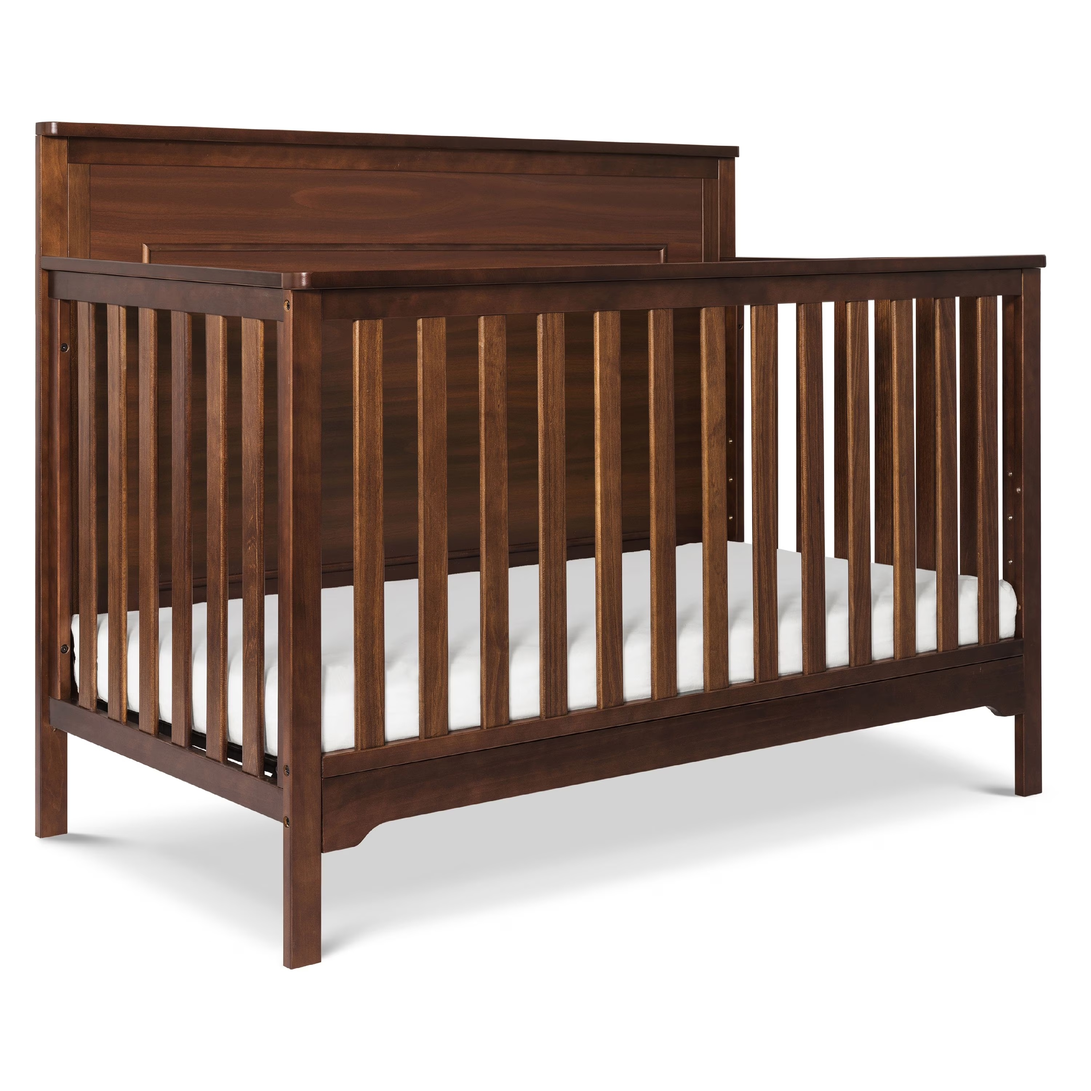crib: (36, 124, 1043, 966)
